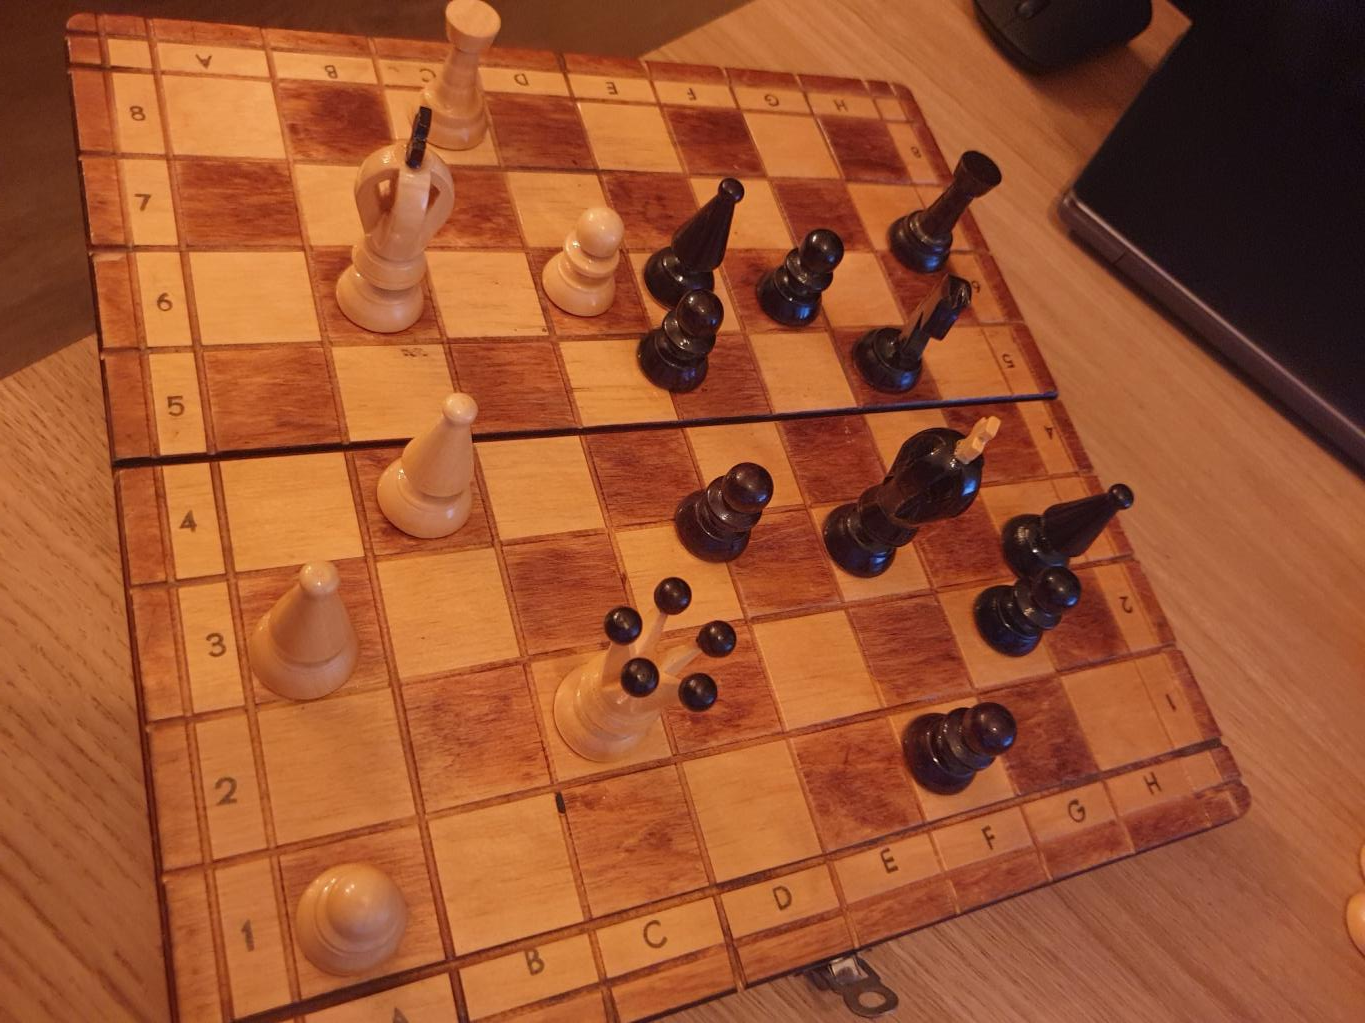bbishop: (1002, 479, 1134, 588), (641, 175, 745, 311)
bking: (820, 415, 1002, 580)
bknight: (852, 271, 969, 397)
bpawn: (899, 696, 1015, 803), (973, 561, 1081, 663), (673, 459, 774, 568), (632, 289, 725, 397), (755, 229, 845, 328)
brook: (885, 149, 1003, 280)
wbishop: (246, 557, 363, 701), (375, 394, 482, 538)
wking: (337, 106, 461, 332)
wpawn: (285, 856, 412, 978), (538, 200, 626, 323)
wqueen: (556, 577, 734, 762)
wrook: (404, 1, 507, 150)
